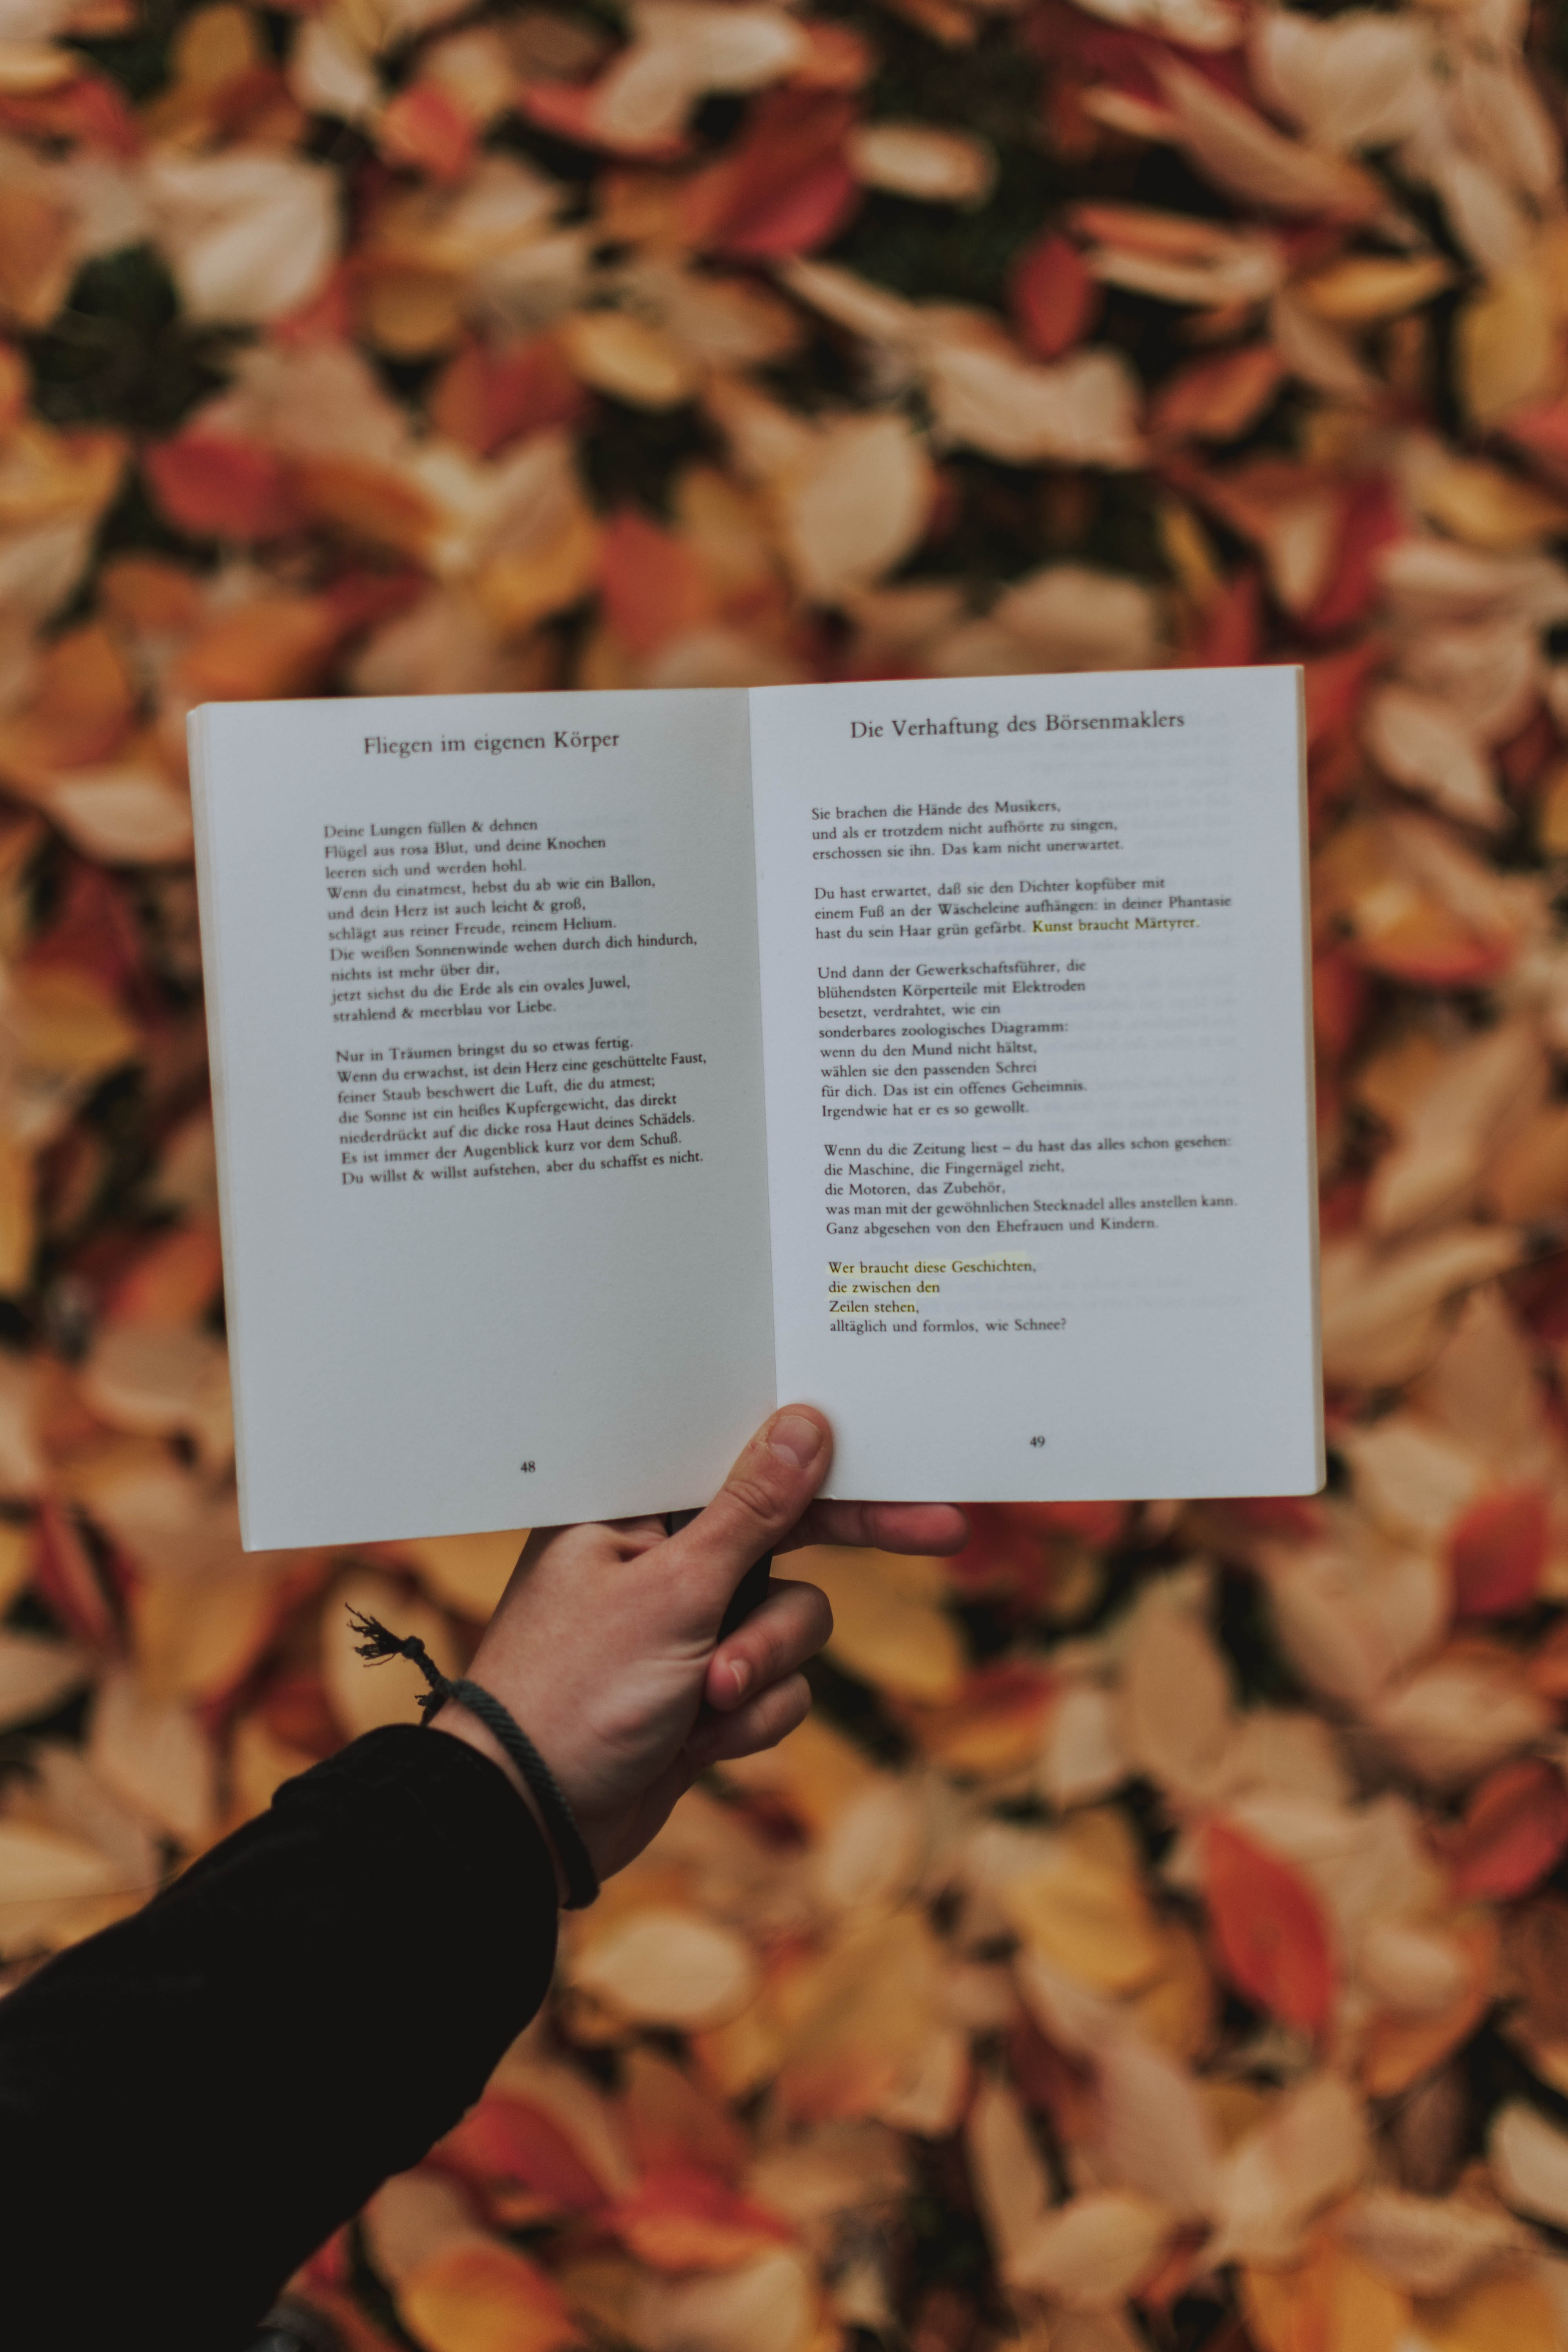book: (166, 647, 1346, 1561)
